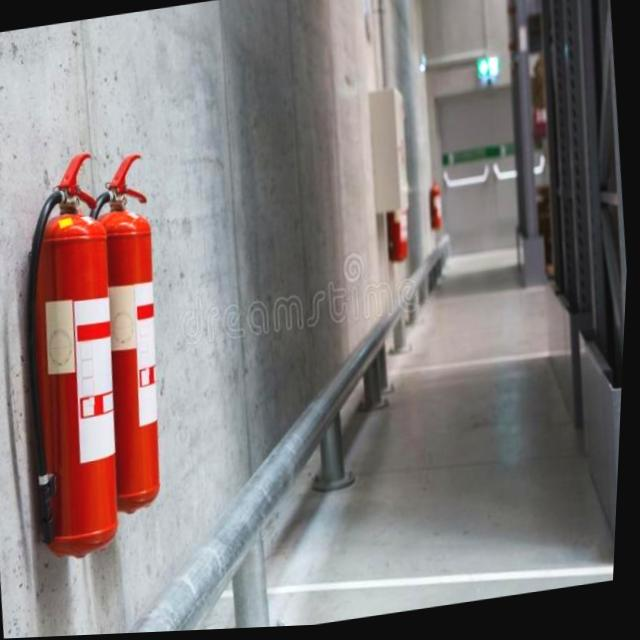FireExtinguisher: (0, 139, 149, 574), (69, 143, 193, 522), (372, 148, 421, 272), (423, 176, 450, 239)
